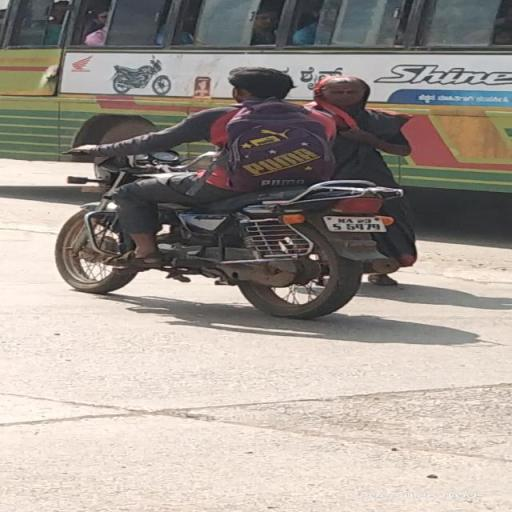bike: (48, 60, 401, 318)
numberplate: (327, 214, 388, 232)
withouthelmet: (232, 69, 291, 104)
